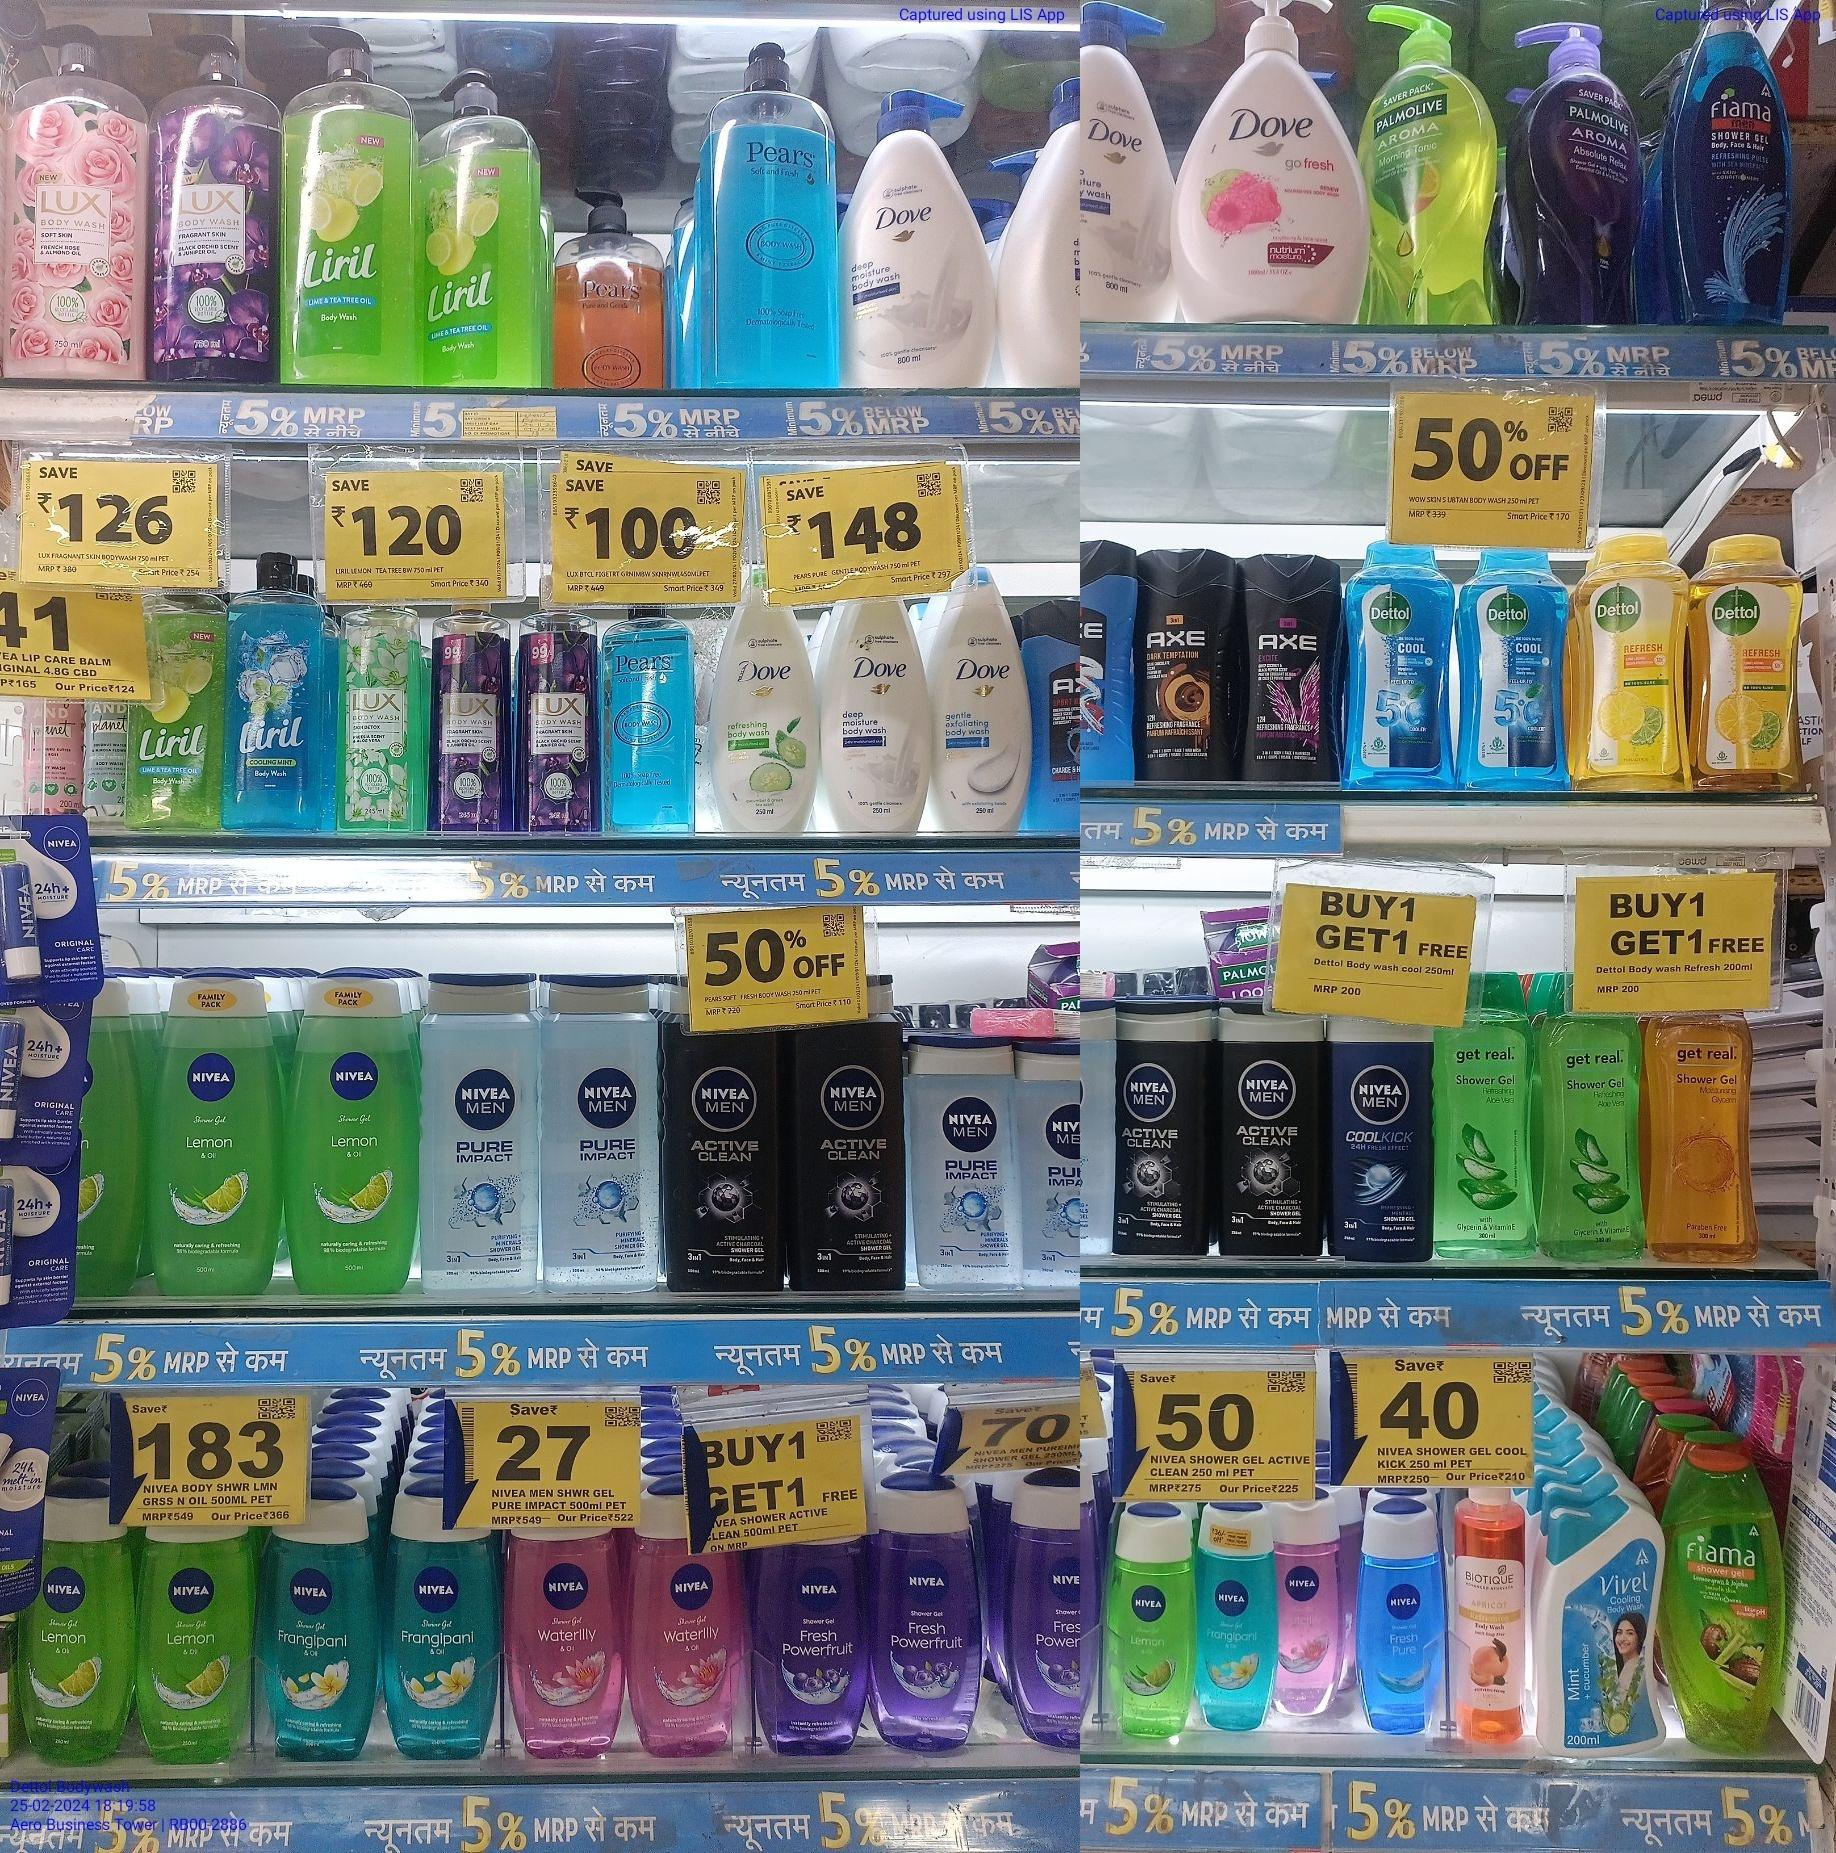Dettol_Bodywash_Cool: (1353, 536, 1454, 792), (1473, 550, 1562, 785)
Dettol_Bodywash_Refresh: (1584, 530, 1685, 784), (1700, 533, 1801, 784)
Dove_Deep_Moisture_Body_Wash_250ML: (831, 599, 926, 832)
Dove_Gentle_Exfoliating_Body_Wash_250ML: (935, 567, 1027, 827)
Dove_Refreshing_Body_Wash_250ML: (720, 572, 807, 831)
Fiama_Shower_Gel_Lemongrass_and_Jojoba_250ML: (1668, 1449, 1782, 1747)
Get_Real_Shower_Gel_Moisturising_Glycerin_300ML: (1656, 1017, 1754, 1261)
Liril_Cooling_Mint_Body_Wash_250ML: (225, 552, 330, 824)
Liril_Lime_and_Tea_Tree_Oil_Body_Wash_250ML: (123, 578, 210, 827)
Lux_Black_Orchid_Scent_and_Juniper_Oil_Body_Wash_245ML: (516, 610, 594, 829), (430, 607, 504, 829)
Lux_Body_Wash_Skin_Detox_Freesia_Scent_and_Alove_Vera_245ML: (343, 604, 415, 831)
Nivea_Shower_Gel_Frangipani_and_Oil_250ML: (388, 1488, 496, 1752), (274, 1491, 377, 1759), (1200, 1502, 1281, 1734)
Nivea_Shower_Gel_Fresh_Powerfruit_250ML: (873, 1476, 984, 1754), (1009, 1476, 1103, 1752), (760, 1545, 861, 1752)
Nivea_Shower_Gel_Lemon_and_Oil_250ML: (289, 970, 410, 1291), (160, 977, 266, 1293), (22, 1470, 129, 1762), (135, 1528, 259, 1764), (1108, 1505, 1192, 1737)
Nivea_Shower_Gel_Waterlily_and_Oil_250ML: (636, 1500, 745, 1752), (501, 1528, 620, 1759)
Pears_Pure_Glycerin_and_Mint_Extracts_Body_Wash_250ML: (605, 607, 693, 829)
